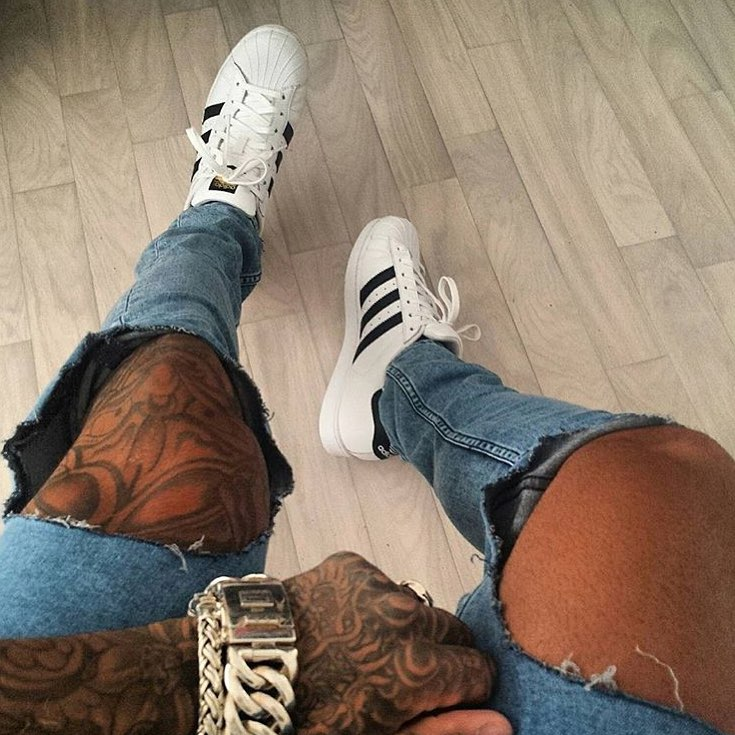sneaker: (309, 199, 494, 480), (165, 8, 318, 282)
